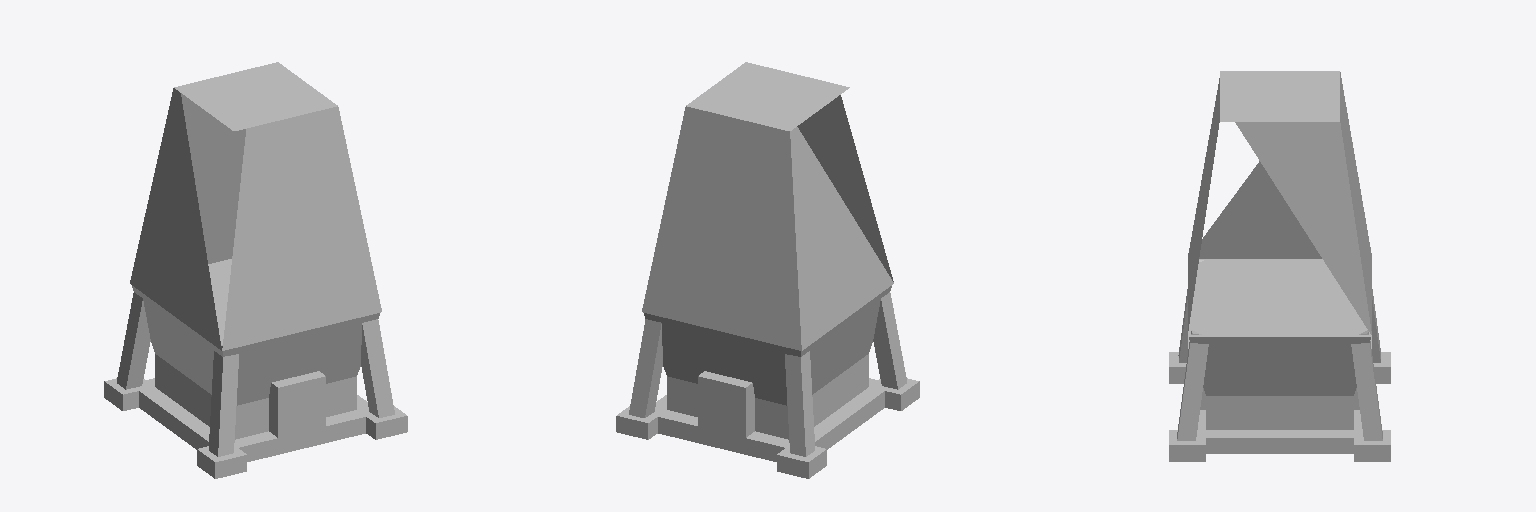
Rendered from blastfurnace.obj.
3 renders of one model, left to right at view 1: azimuth 30°, elevation 25°; view 2: azimuth 150°, elevation 25°; view 3: azimuth 270°, elevation 25°, orthographic.
Parts seen in each view (by area): view 1: Blast; view 2: Blast; view 3: Blast.
Boxes of the visible parts, <box> form: Blast: <box>104,62,407,478</box>; Blast: <box>616,62,919,478</box>; Blast: <box>1169,71,1390,461</box>.
Size of the model in its own units: 12 by 19 by 12.